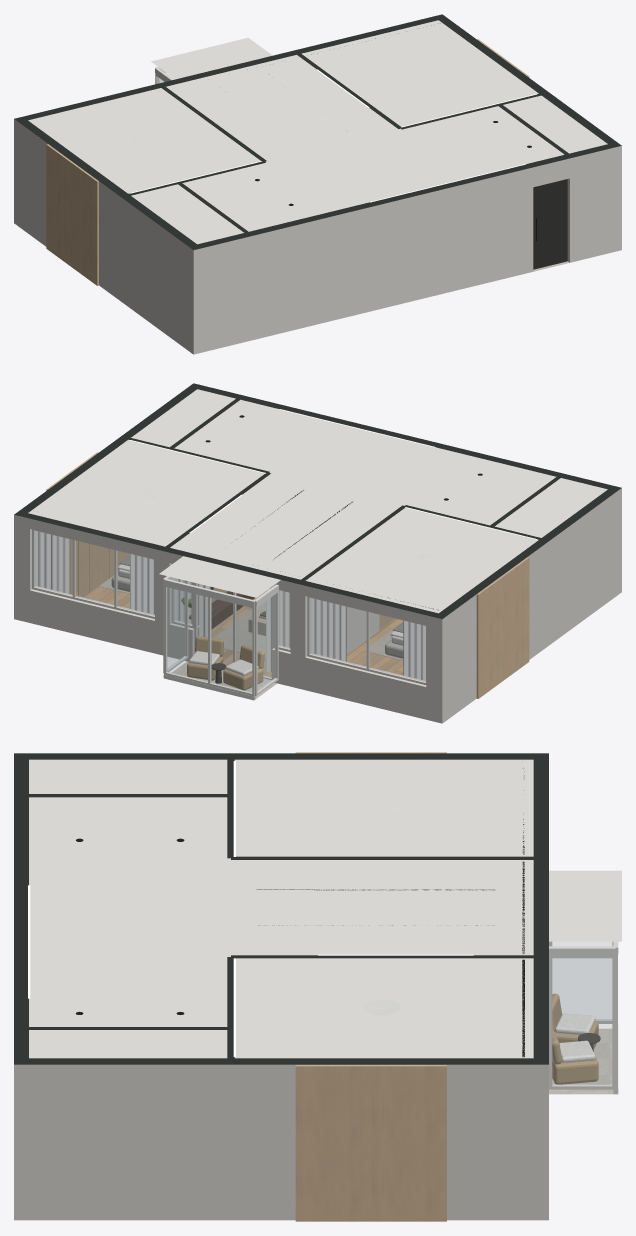
3 views of the same model, one above another, from view 1: azimuth 30°, elevation 25°; view 2: azimuth 150°, elevation 25°; view 3: azimuth 270°, elevation 25° (orthographic). The views are drawn at different scales.
Parts seen in each view (by area): view 1: Ceiling, Interior, Caps, CeilingEmit; view 2: Ceiling, Interior, Glass, Caps, Curtains, CeilingEmit; view 3: Ceiling, Interior, Caps, Glass, CeilingEmit.
Part boxes in pixels (x1,y1,x2,y2): Ceiling: (28,20,607,244); Interior: (14,39,621,354); Caps: (14,14,621,250); CeilingEmit: (130,69,536,202); Ceiling: (28,389,607,613); Interior: (14,452,621,723); Glass: (35,531,425,692); Caps: (14,383,621,619); Curtains: (35,530,425,680); CeilingEmit: (130,409,537,539); Ceiling: (29,759,621,1058); Interior: (14,752,618,1221); Caps: (14,753,548,1064); Glass: (552,942,611,1085); CeilingEmit: (28,761,473,1056).
Bounding box in the file's own units: 11.78 × 2.73 × 9.64.
Materials: 47 (18 with a texture image).
